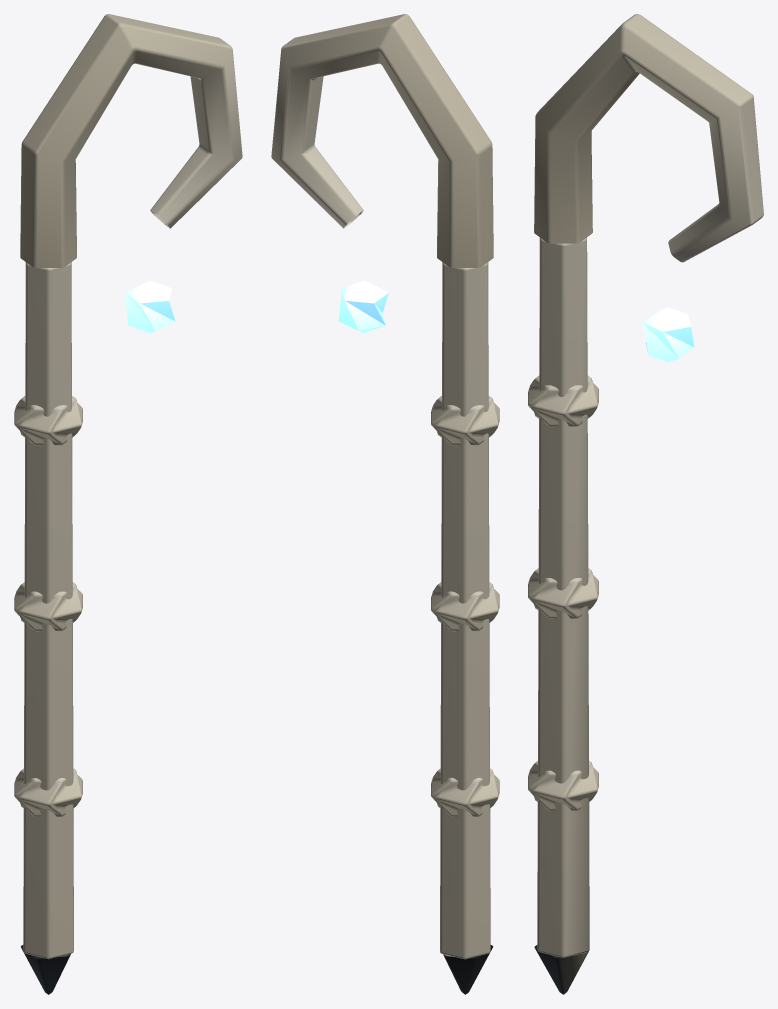
File: lg_riddlebone_cane.glb
3 views of the same model, side by side, from view 1: azimuth 30°, elevation 25°; view 2: azimuth 150°, elevation 25°; view 3: azimuth 330°, elevation 25° (orthographic). The views are drawn at different scales.
Visible parts, largest first — view 1: lg_riddlebone_cane, lg_riddlebone_cane_glow; view 2: lg_riddlebone_cane, lg_riddlebone_cane_glow; view 3: lg_riddlebone_cane, lg_riddlebone_cane_glow.
Boxes of the visible parts, x1=… form: lg_riddlebone_cane: x1=14, y1=14, x2=242, y2=994; lg_riddlebone_cane_glow: x1=125, y1=280, x2=174, y2=333; lg_riddlebone_cane: x1=271, y1=14, x2=499, y2=994; lg_riddlebone_cane_glow: x1=338, y1=280, x2=388, y2=333; lg_riddlebone_cane: x1=528, y1=14, x2=763, y2=994; lg_riddlebone_cane_glow: x1=642, y1=307, x2=694, y2=362.
Size of the model in its own units: 0.4382 by 1.81 by 0.1171.
